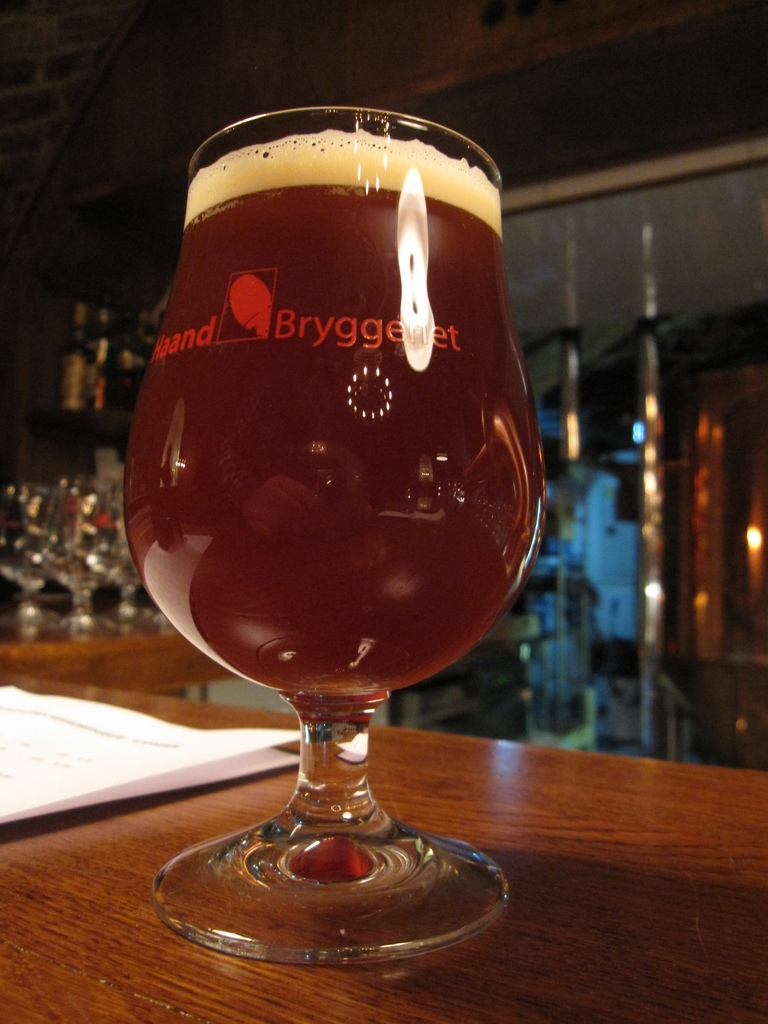Beer: (127, 132, 543, 695)
